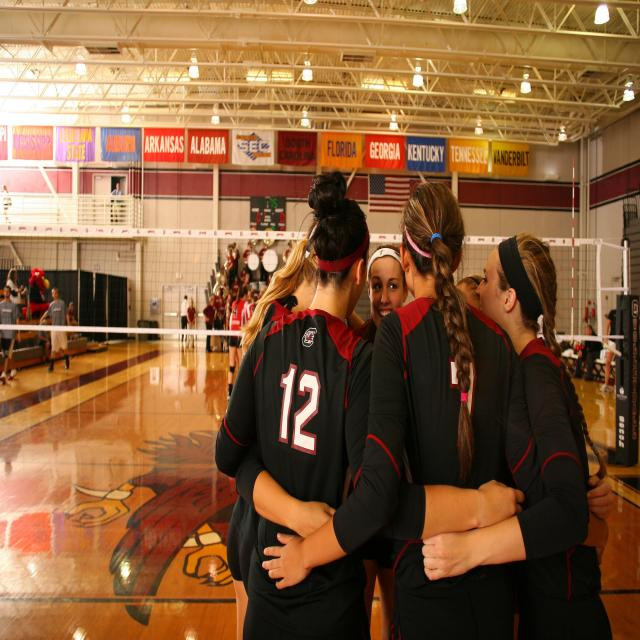body: (258, 177, 612, 640), (216, 170, 524, 640), (419, 227, 620, 640), (226, 219, 336, 640), (352, 241, 410, 339), (39, 285, 71, 372), (227, 285, 250, 402), (572, 323, 604, 383), (0, 286, 20, 381), (599, 307, 617, 394), (5, 267, 28, 321), (24, 262, 44, 320), (456, 266, 480, 314), (222, 292, 236, 352), (36, 314, 52, 366), (202, 296, 214, 352), (186, 298, 197, 350), (215, 263, 228, 304), (110, 182, 122, 225), (224, 248, 236, 290), (246, 289, 260, 324), (258, 242, 269, 286), (284, 241, 295, 285), (180, 295, 190, 343), (243, 242, 254, 283), (66, 302, 78, 339), (216, 296, 226, 327), (230, 274, 241, 302), (232, 242, 240, 277), (241, 268, 253, 290), (268, 272, 273, 286)
